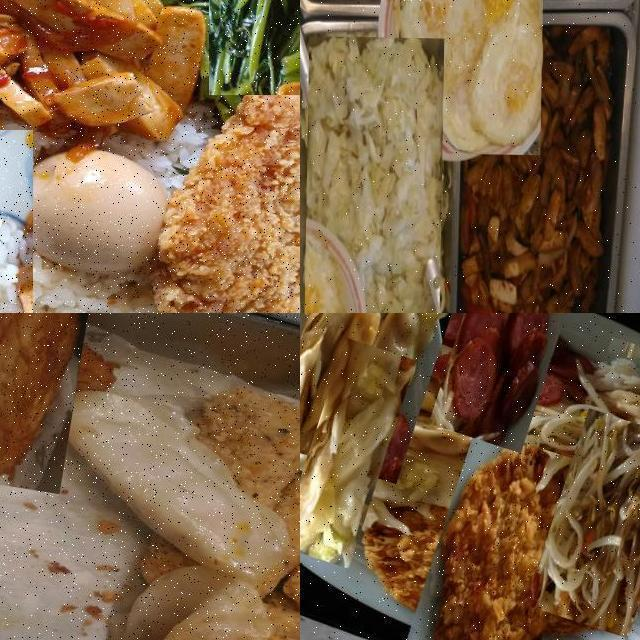Rice: (0, 131, 115, 313), (563, 342, 640, 434)
chinese_cabbage: (303, 35, 445, 313), (300, 360, 440, 545)
chinese_sausage: (416, 313, 585, 441)
fried_chicken: (369, 448, 621, 640), (156, 78, 300, 313), (300, 26, 336, 297)
fried_dumplings: (57, 394, 300, 640), (300, 313, 483, 468)
fried_eggs: (397, 0, 545, 154)
mung_bean_sprouts: (497, 364, 640, 610), (300, 0, 489, 110)
triangle_hash_brown: (0, 313, 114, 474)
water_spinach: (201, 0, 300, 86)
